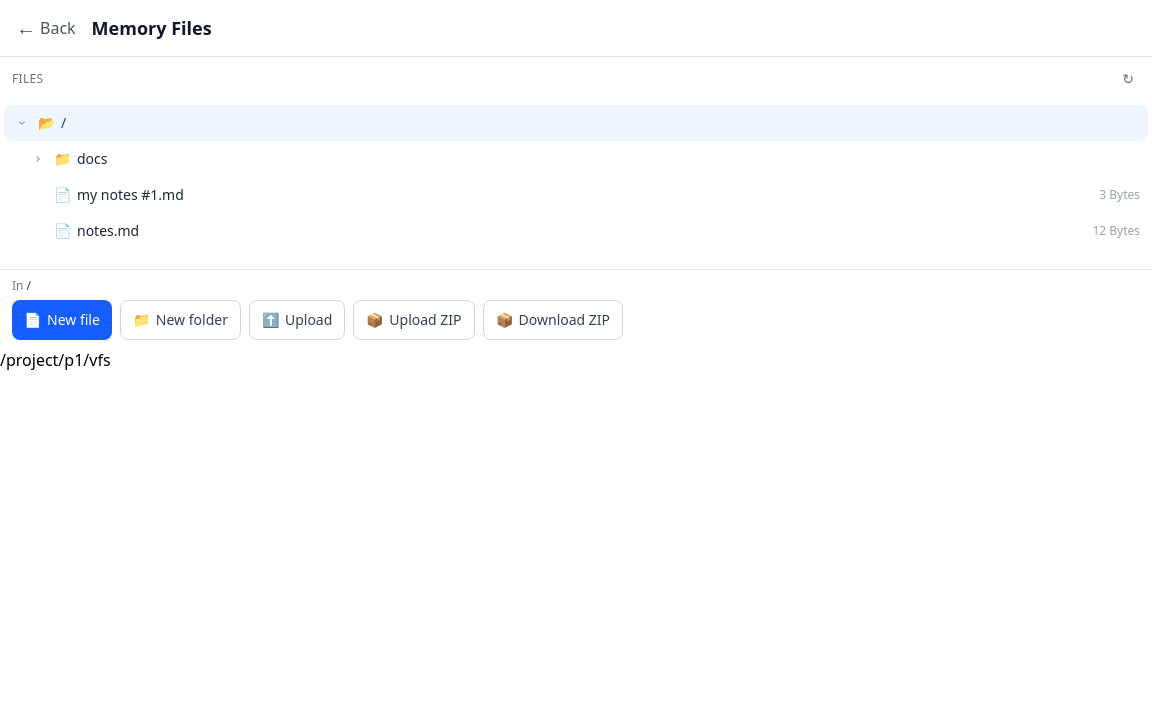
Test case: VfsManagerView › mobile › opens a tapped file in a sheet and keeps the selection when it closes
What coordinates should you click on to do the following:
click the list item "📄 notes.md 12 Bytes"
I would click on:
 (108, 230)
Its box is [54,221,1140,240].
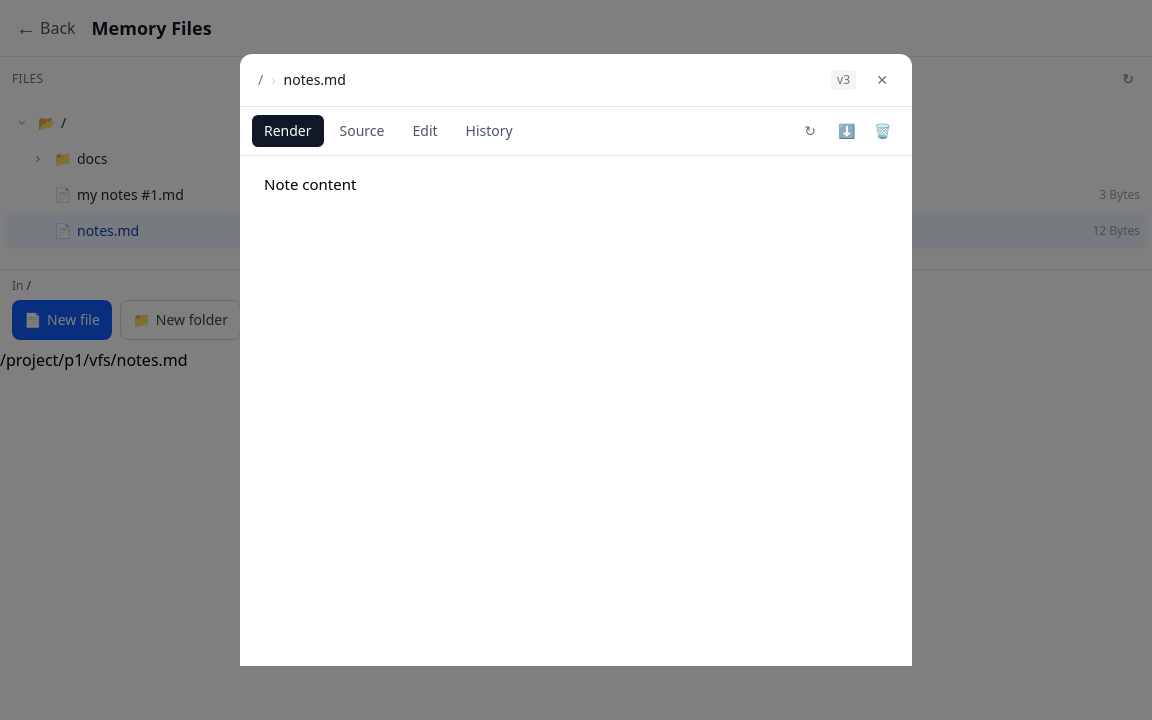
Expected: the text "Note content" is shown, [264,174,356,194]
What coordinates should you click on to do the following:
click the button named "Close"
I would click on:
 (882, 80)
Its box is [864,62,900,98].
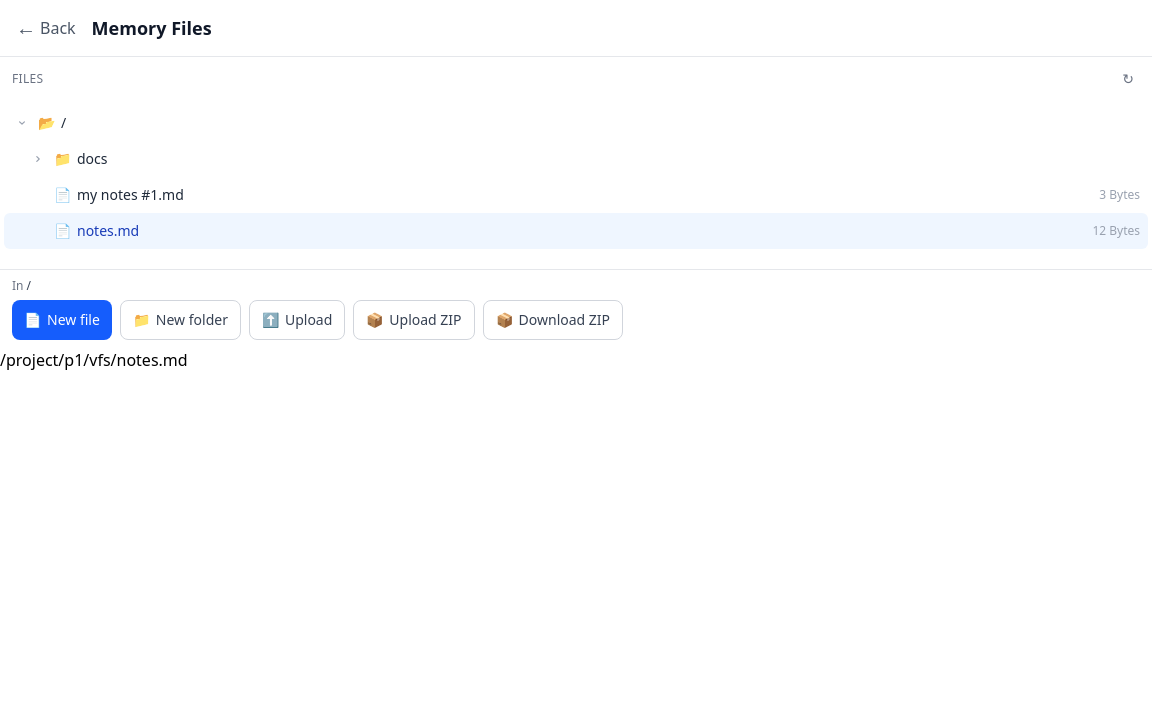
Expected: the text with test id "location" reads "/project/p1/vfs/notes.md", [0,349,188,371]
Expected: the dialog is gone
